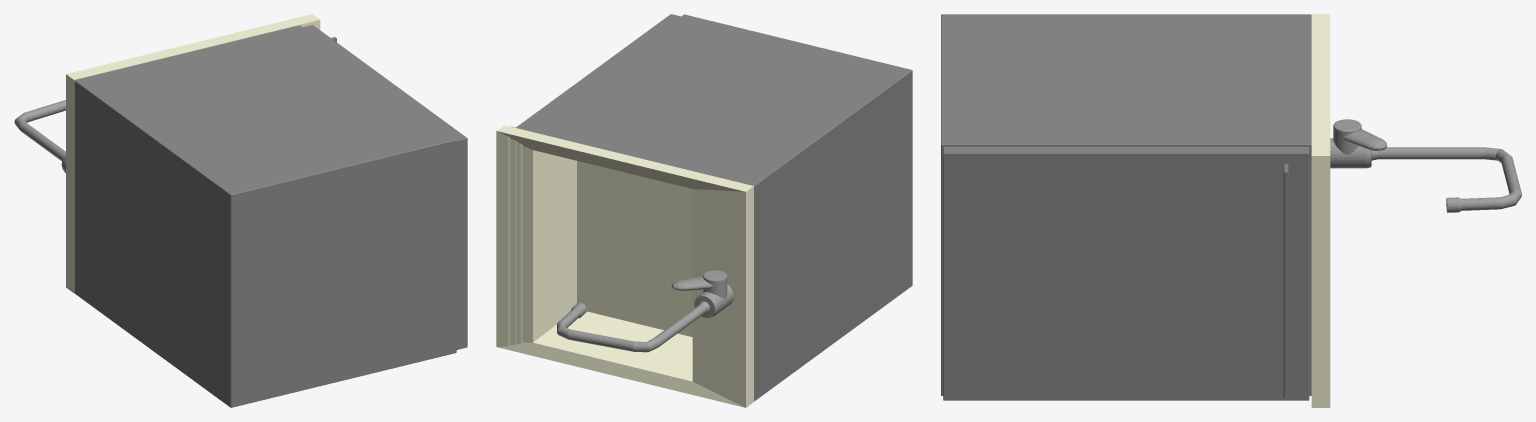
Rendered from Lavandino v1 pivot sx.fbx.
The picture shows the model from 3 angles, left to right: view 1: azimuth 30°, elevation 25°; view 2: azimuth 150°, elevation 25°; view 3: azimuth 270°, elevation 25°; orthographic projection. The views are drawn at different scales.
Visible parts, largest first — view 1: Armadio.001, Lavandino, Anta.001, Tubo; view 2: Armadio.001, Lavandino, Tubo, Anta.001, Maniglia; view 3: Anta.001, Armadio.001, Lavandino, Tubo, Maniglia.
Part boxes in pixels (<box>): Armadio.001: <box>74,25,456,407</box>; Lavandino: <box>66,14,320,292</box>; Anta.001: <box>303,25,467,349</box>; Tubo: <box>14,100,65,173</box>; Armadio.001: <box>526,14,912,401</box>; Lavandino: <box>496,125,753,407</box>; Tubo: <box>557,284,733,352</box>; Anta.001: <box>511,14,680,130</box>; Maniglia: <box>671,270,727,298</box>; Anta.001: <box>943,146,1309,400</box>; Armadio.001: <box>941,14,1311,395</box>; Lavandino: <box>1311,14,1330,407</box>; Tubo: <box>1330,138,1521,212</box>; Maniglia: <box>1333,119,1386,154</box>.
Bounding box in the file's own units: 85 × 68.96 × 144.
